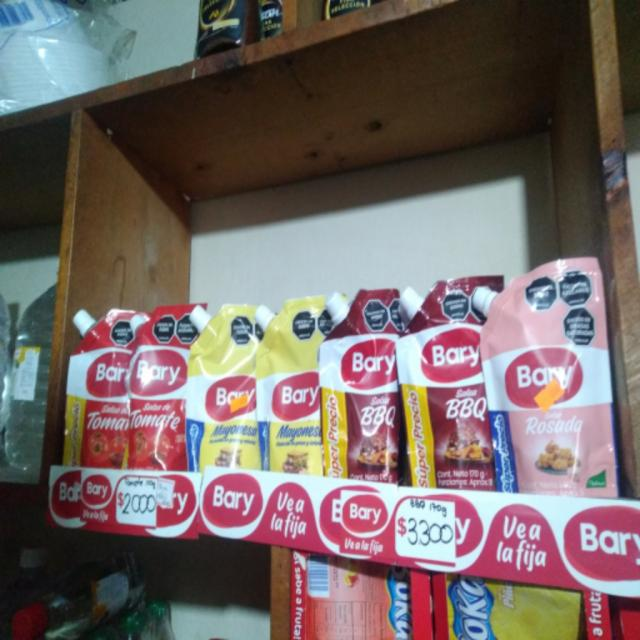BBQ: (405, 274, 508, 491), (327, 280, 407, 474)
Mayonesa: (188, 301, 267, 465), (260, 302, 327, 475)
Precio: (390, 499, 459, 567), (116, 486, 160, 529)
Rosada: (482, 259, 619, 496)
Tomate: (66, 307, 142, 470), (126, 306, 193, 468)
